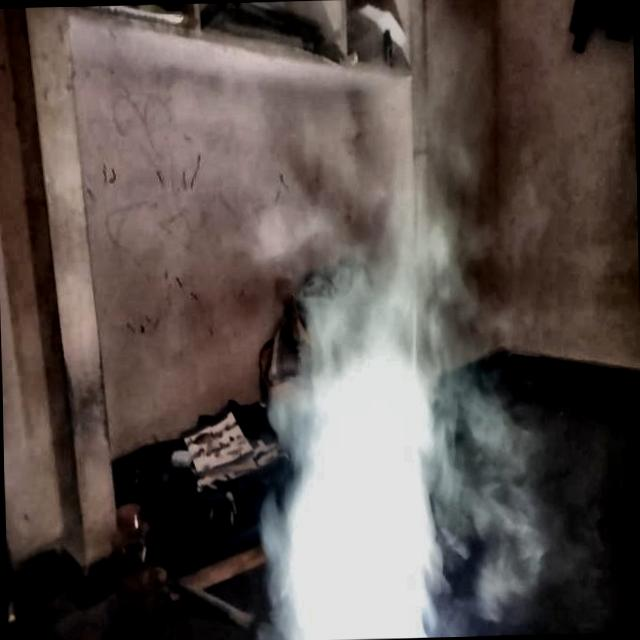smoke: (254, 275, 471, 640)
